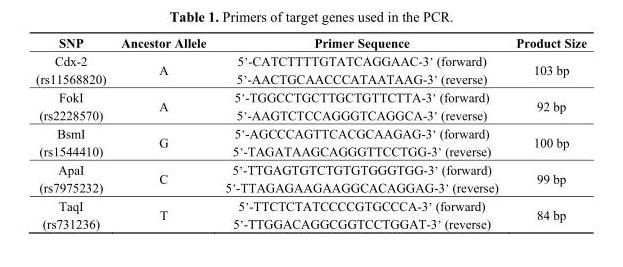table: (35, 35, 585, 230)
table column: (215, 35, 506, 230), (112, 35, 215, 230), (506, 35, 585, 230), (35, 35, 112, 230)
table column header: (35, 35, 585, 51)
table row: (35, 123, 585, 160), (35, 51, 585, 87), (35, 87, 585, 123), (35, 160, 585, 196), (35, 196, 585, 230), (35, 35, 585, 51)
